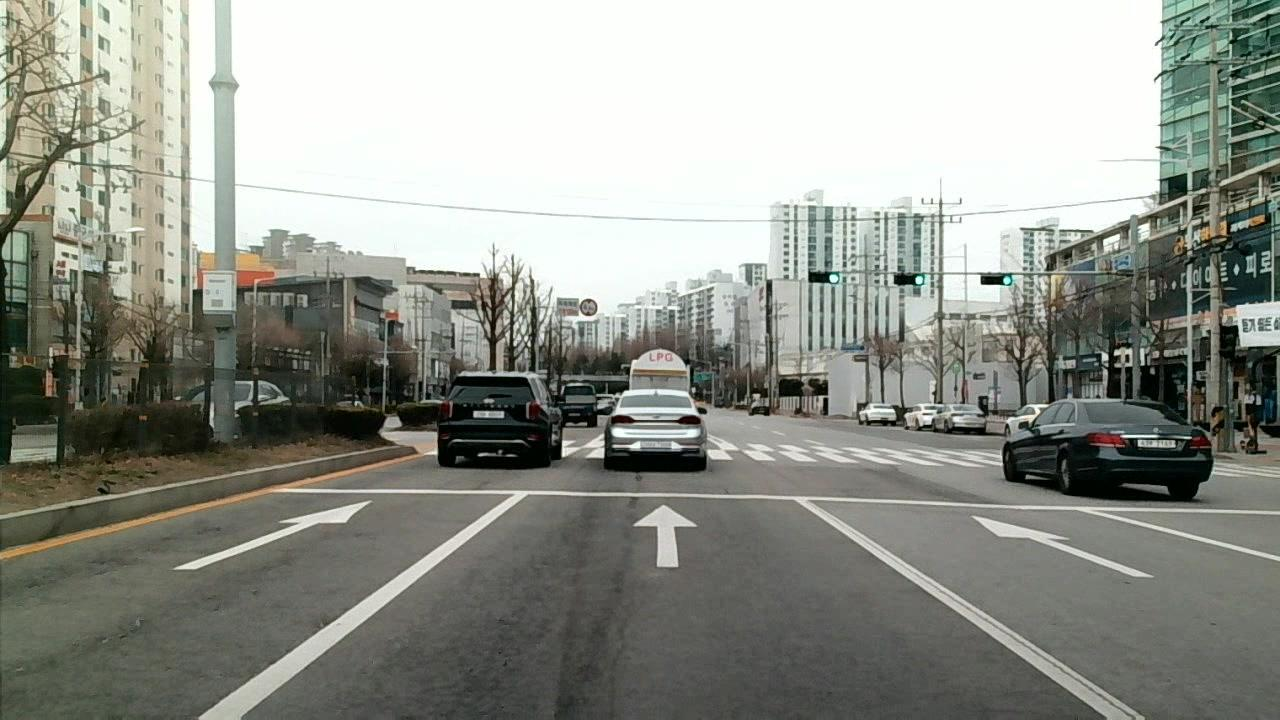vcrack: (6, 519, 215, 591), (994, 625, 1131, 712), (879, 548, 976, 617), (37, 613, 149, 670)
